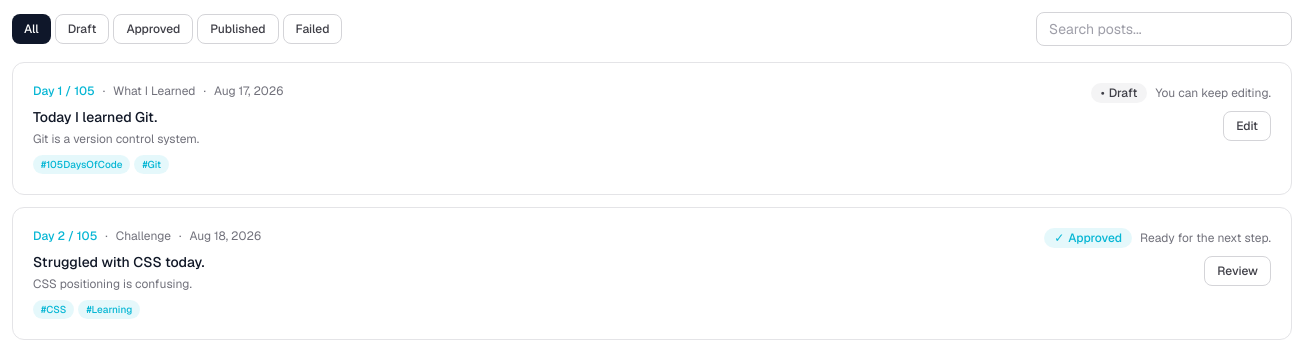
PostList › filters by status when Draft button clicked
Click the button "Draft".
click(82, 29)  # box [55, 14, 110, 44]
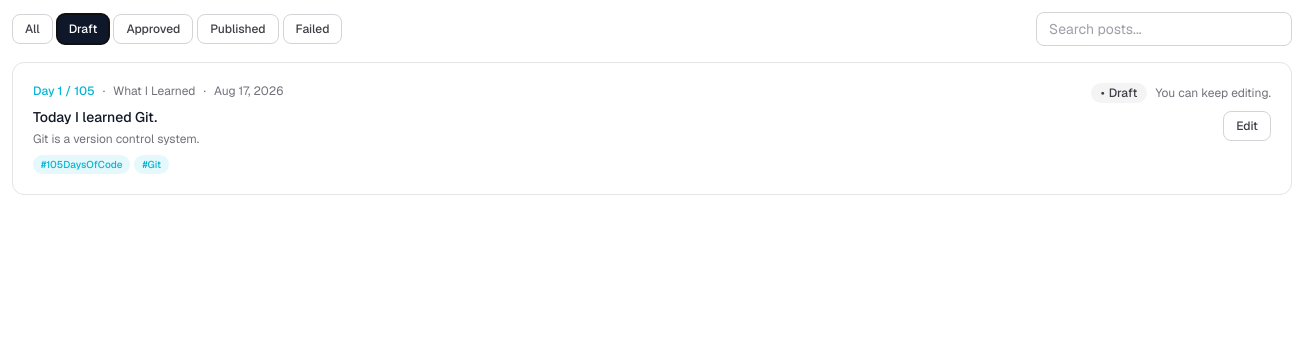
Expected: the heading "Today I learned Git." is shown, [33, 108, 157, 126]
Expected: the heading "Struggled with CSS today." is gone
